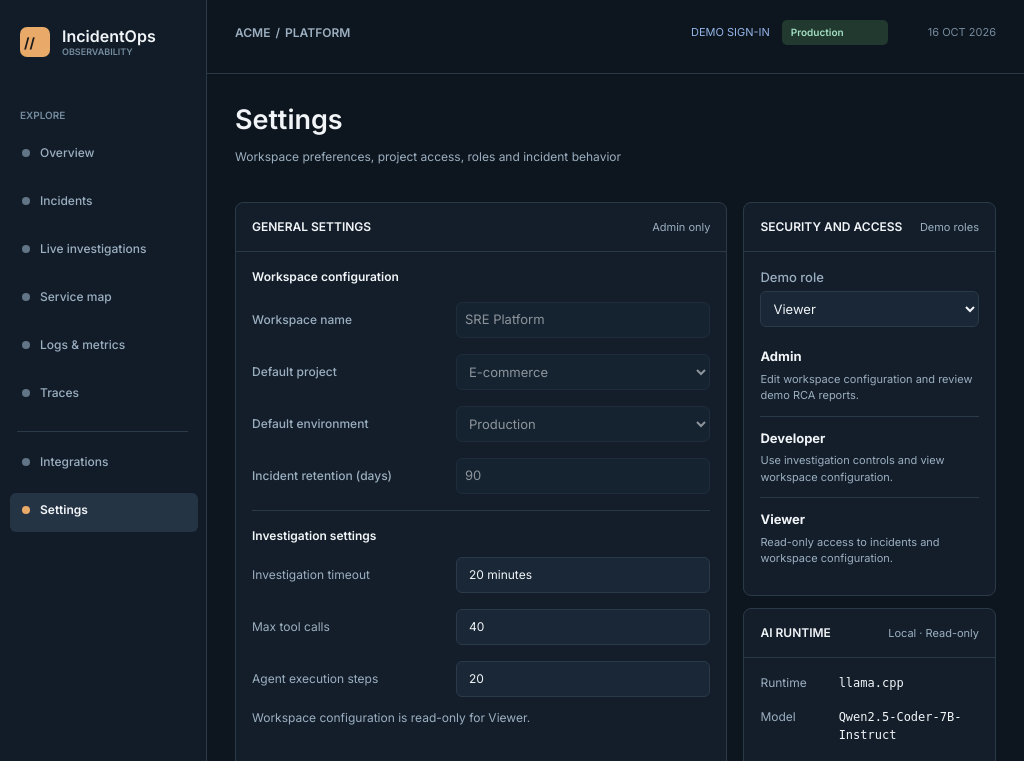
FE-07 Settings › keeps the workspace read-only as viewer
Expected: the element with class "settings-limits" shows "20 minutes", [252,510,710,697]
Expected: the element with class "settings-limits" shows "40", [469,619,484,634]
Step 1. Select "Admin" in the dropdown named "role" → (870, 310), box [760,292,979,328]
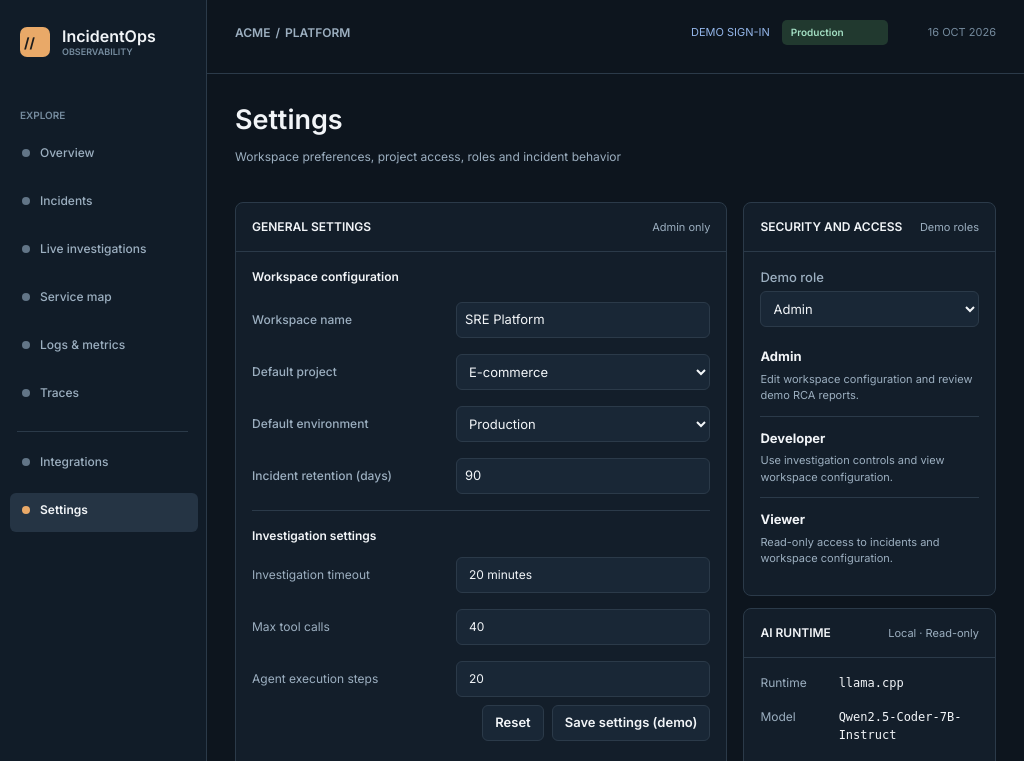
Expected: the submit button is shown, [552,705,710,741]
